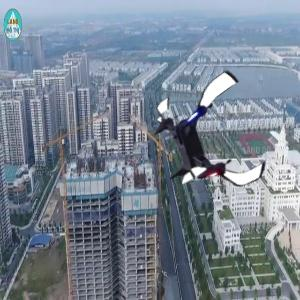drone: (149, 78, 276, 205)
